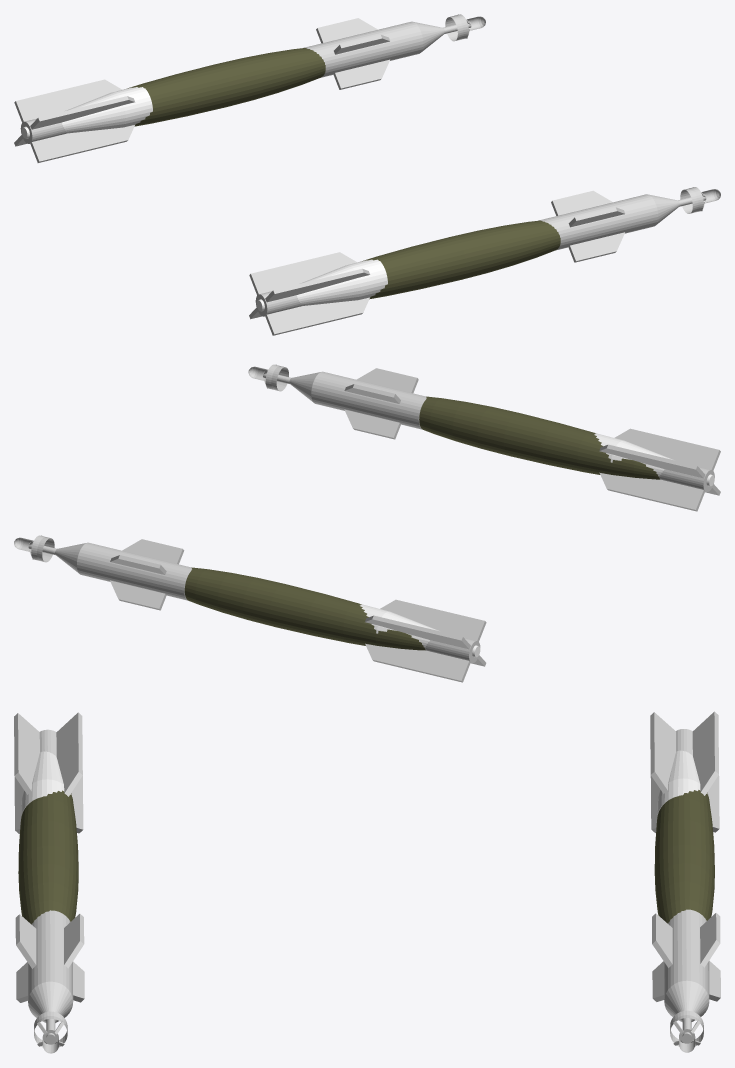
Rendered from f15egbu1268.glb.
3 views of the same model, one above another, from view 1: azimuth 30°, elevation 25°; view 2: azimuth 150°, elevation 25°; view 3: azimuth 270°, elevation 25° (orthographic). The views are drawn at different scales.
Parts seen in each view (by area): view 1: 円柱.028, 円柱.021; view 2: 円柱.021, 円柱.028; view 3: 円柱.028, 円柱.021.
Boxes of the visible parts, <box> form: 円柱.028: <box>249,187,720,335</box>; 円柱.021: <box>14,14,485,162</box>; 円柱.021: <box>14,535,486,682</box>; 円柱.028: <box>248,364,720,511</box>; 円柱.028: <box>14,712,84,1053</box>; 円柱.021: <box>650,711,720,1052</box>.
Bounding box in the file's own units: 3.69 × 0.3659 × 3.61.
2 materials, 1 textured.
